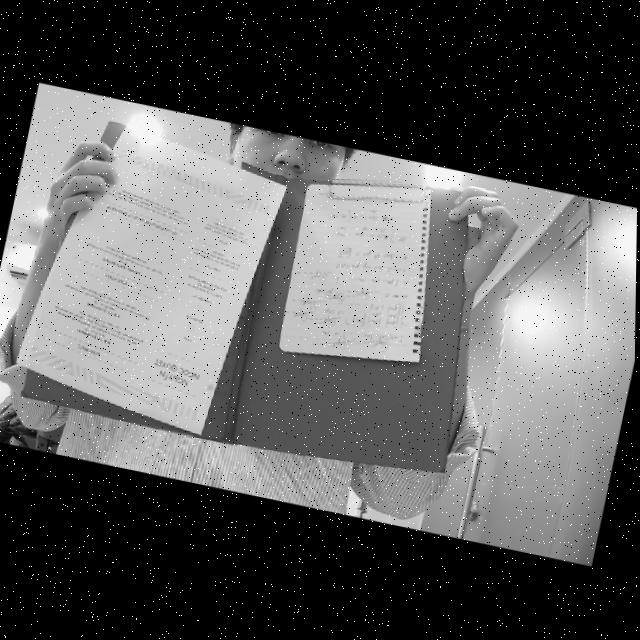document: (16, 124, 287, 435), (279, 185, 431, 362)
